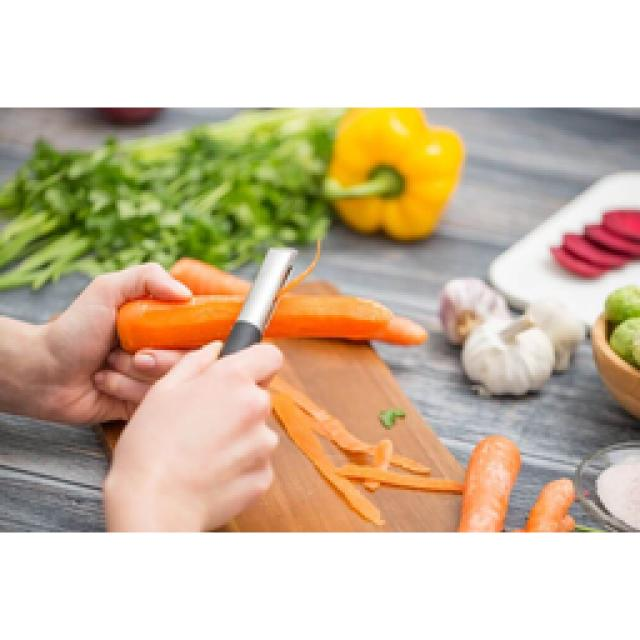food_waste: (268, 375, 518, 530), (118, 238, 425, 348), (322, 108, 462, 238), (452, 302, 582, 390), (540, 208, 638, 275), (510, 478, 570, 530), (610, 288, 638, 365), (250, 142, 290, 188)
